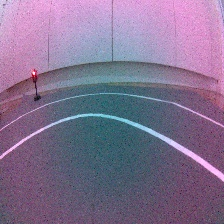red: (29, 69, 44, 103)
